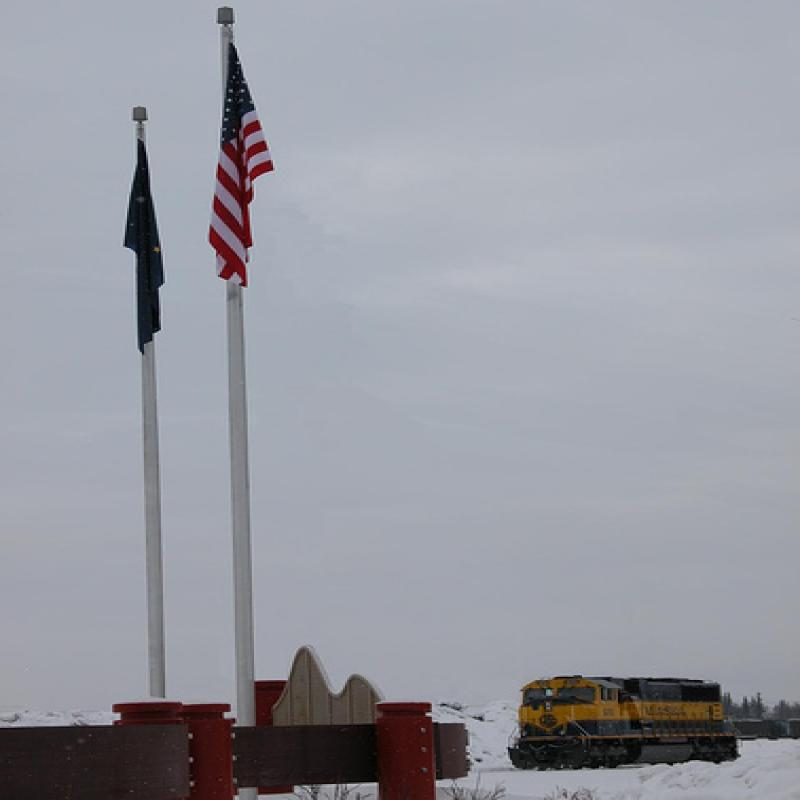train: (511, 676, 746, 772)
